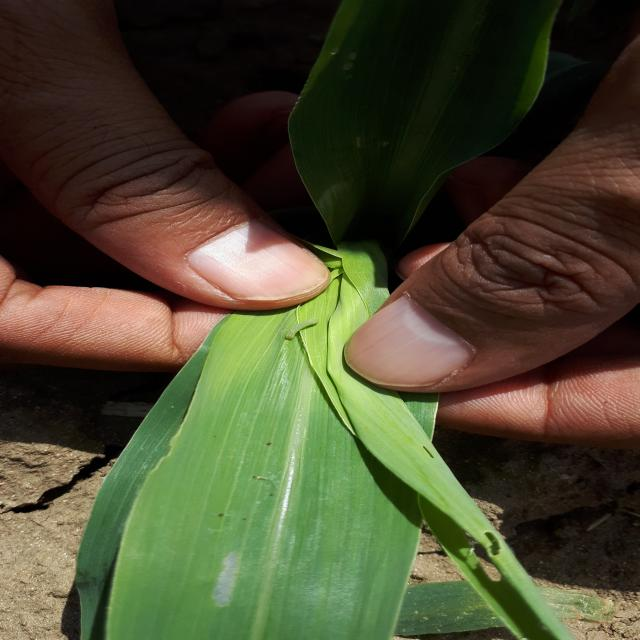armyworm: (287, 318, 321, 343)
